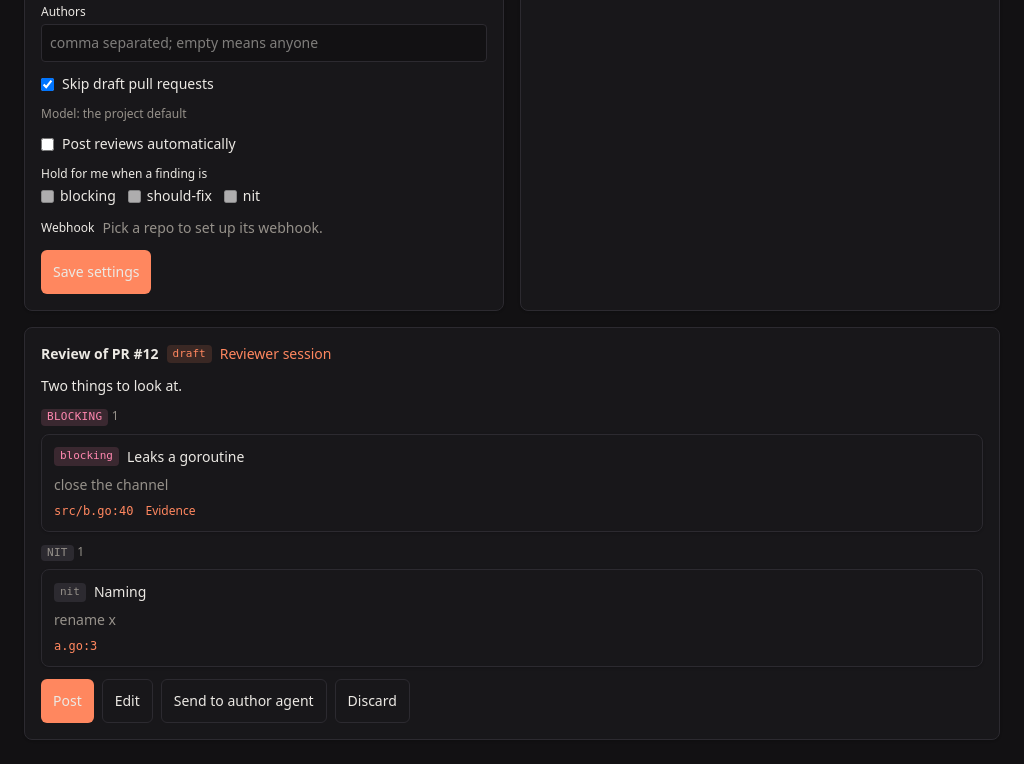
Test case: Drafts › edits a finding inline and saves it with the draft id
(page scrolled)
expect the element with test id "draft-view" is shown: met, box [41, 344, 983, 723]
Step 1. Click the button "Edit" → (127,701), box [102, 679, 153, 723]
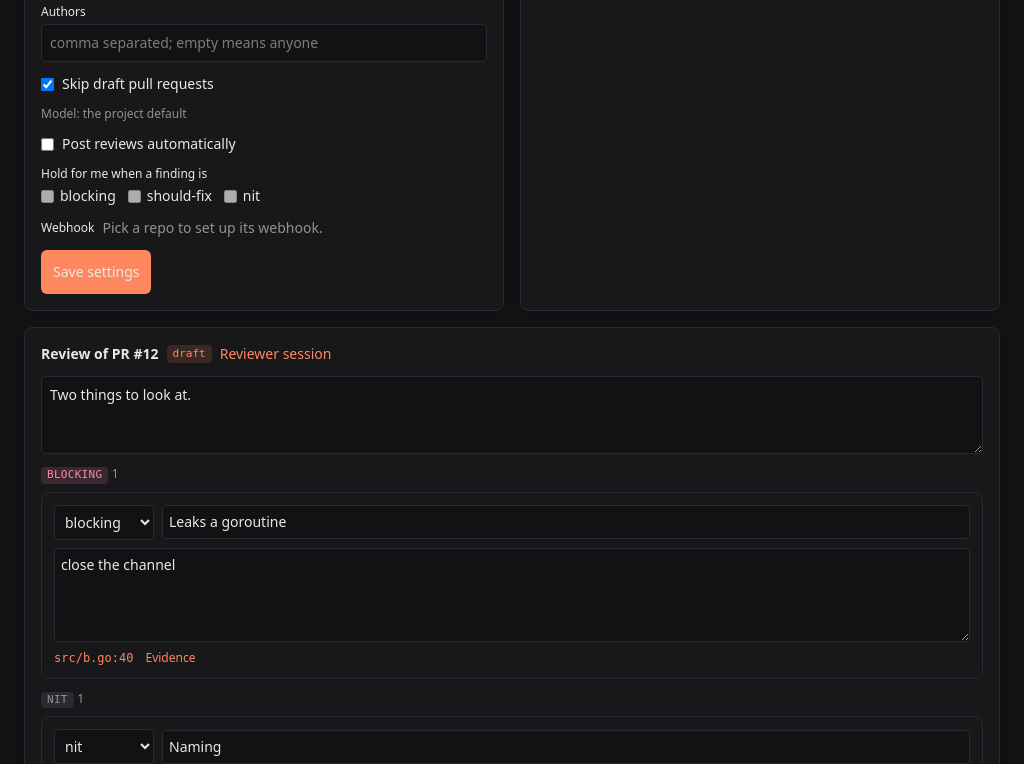
Step 2. Replace the text in the 1st field named "Title" with "Leaks a goroutine on error" → (566,522), box [162, 505, 970, 539]
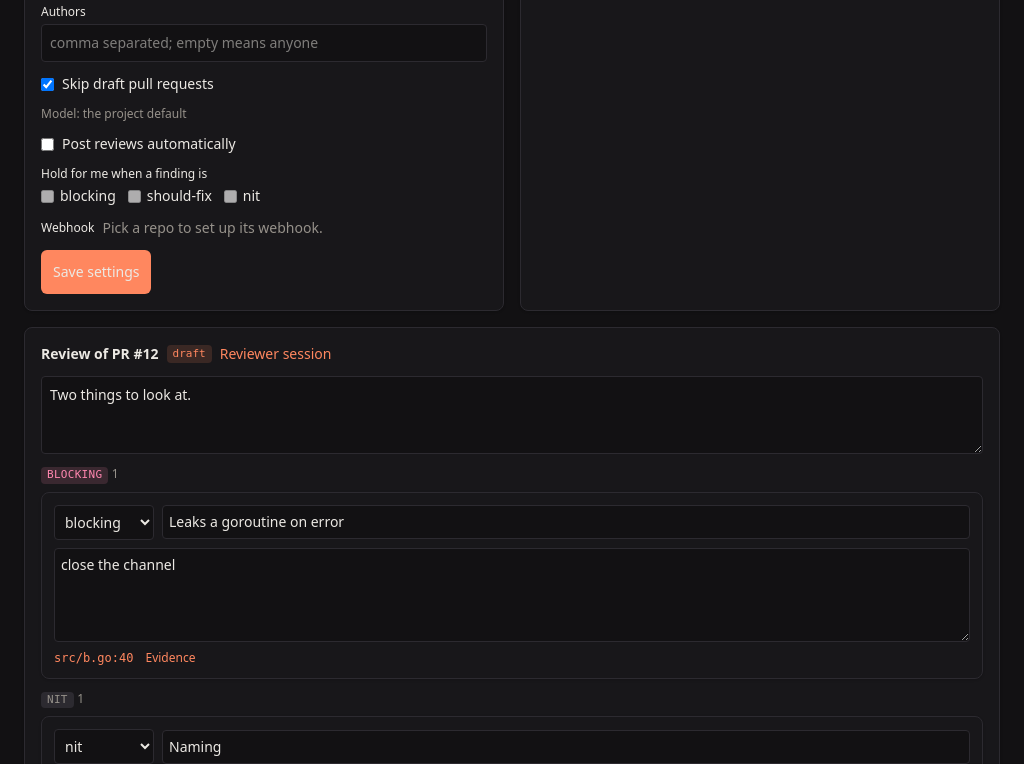
Step 3. Select "should-fix" in the 2nd dropdown named "Severity" → (104,747), box [54, 729, 154, 763]
(page scrolled)
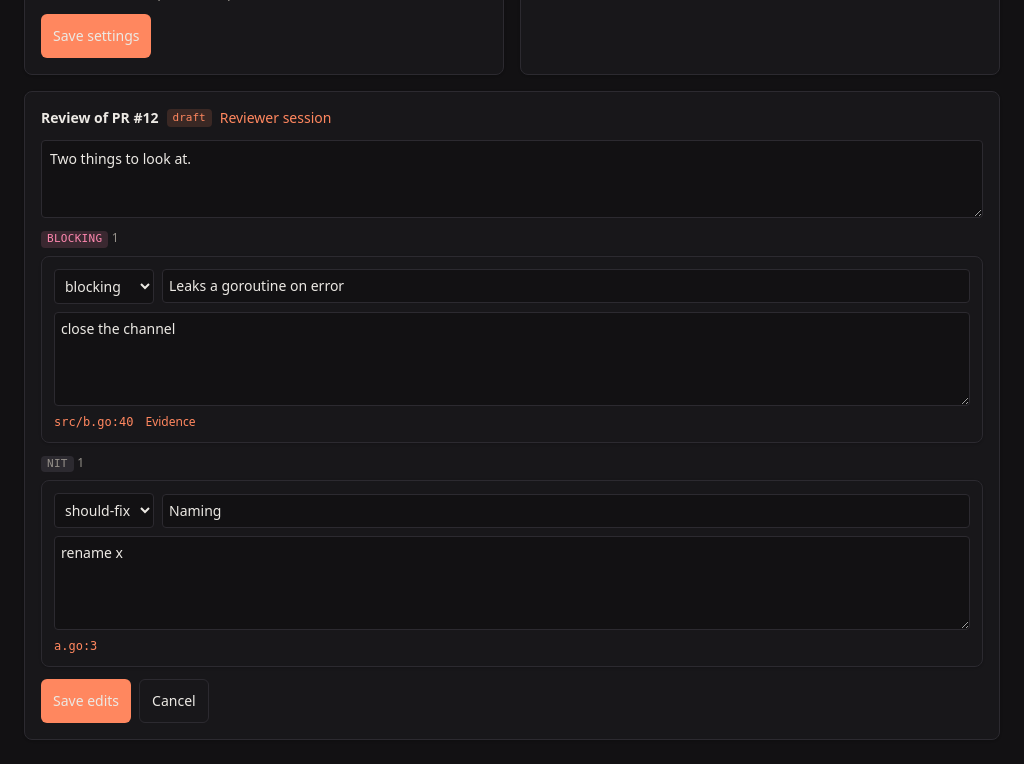
Step 4. Click the button "Save edits" → (86,701), box [41, 679, 131, 723]
(page scrolled)
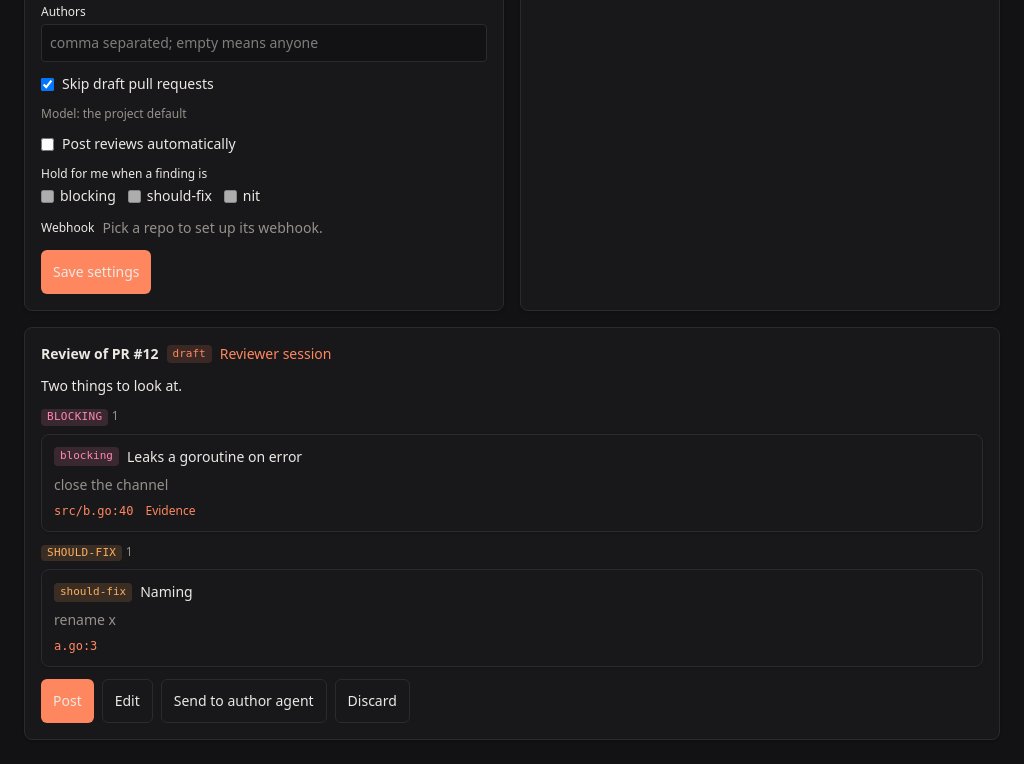
expect the label "should-fix" is shown: met, box [128, 186, 212, 206]
expect the text "Two things to look at." is shown: met, box [41, 376, 182, 395]
expect the text "Leaks a goroutine on error" is shown: met, box [127, 447, 302, 466]
